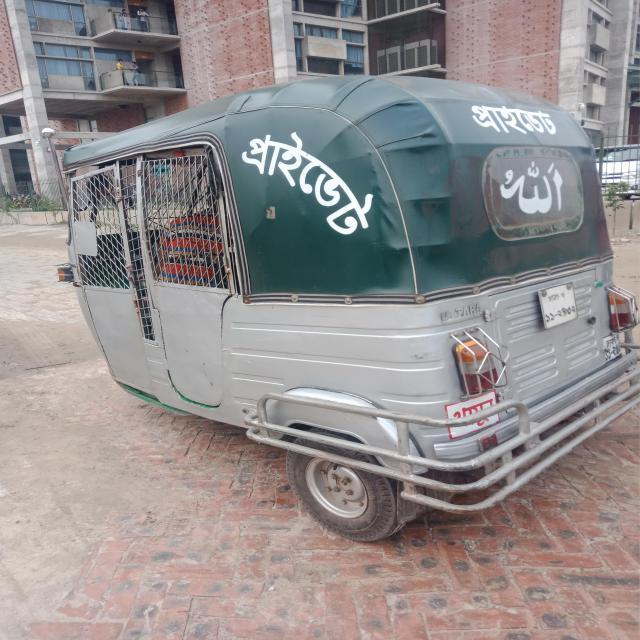CNG: (27, 53, 640, 564)
